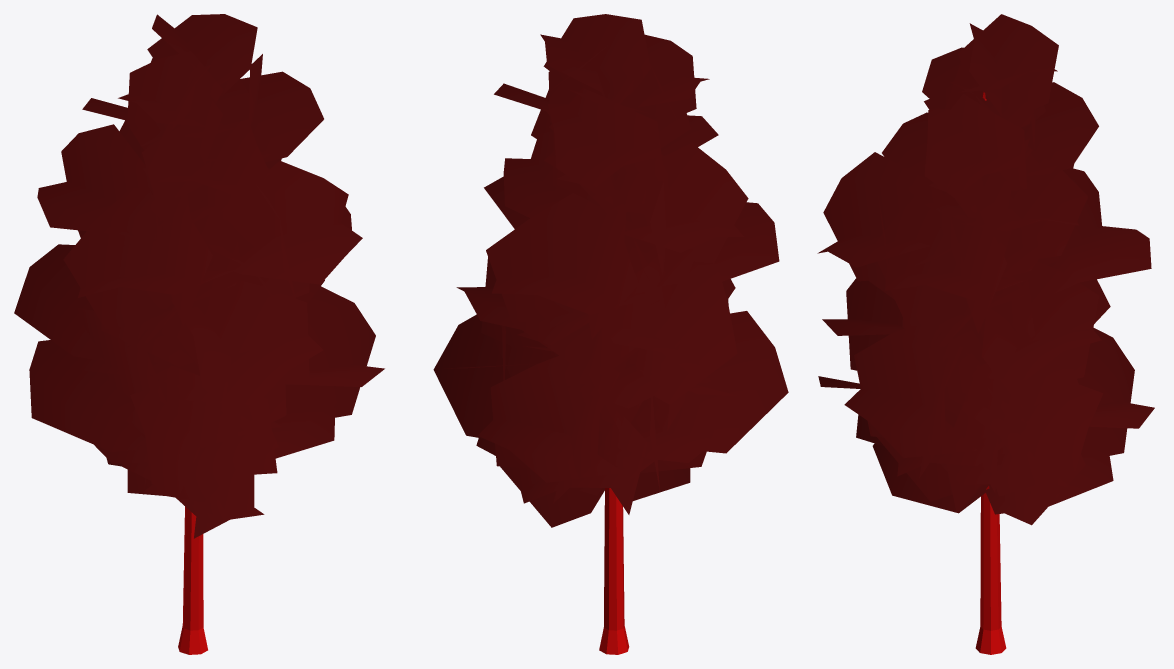
The model's file is SM_Tree_Birch_01.gltf.
3 views of the same model, side by side, from view 1: azimuth 30°, elevation 25°; view 2: azimuth 150°, elevation 25°; view 3: azimuth 270°, elevation 25° (orthographic).
Parts seen in each view (by area): view 1: SM_Tree_Birch_01; view 2: SM_Tree_Birch_01; view 3: SM_Tree_Birch_01.
Part boxes in pixels (<box>): SM_Tree_Birch_01: <box>14,14,384,654</box>; SM_Tree_Birch_01: <box>433,14,788,654</box>; SM_Tree_Birch_01: <box>817,14,1154,654</box>.
Size of the model in its own units: 2.45 by 4.55 by 2.29.
